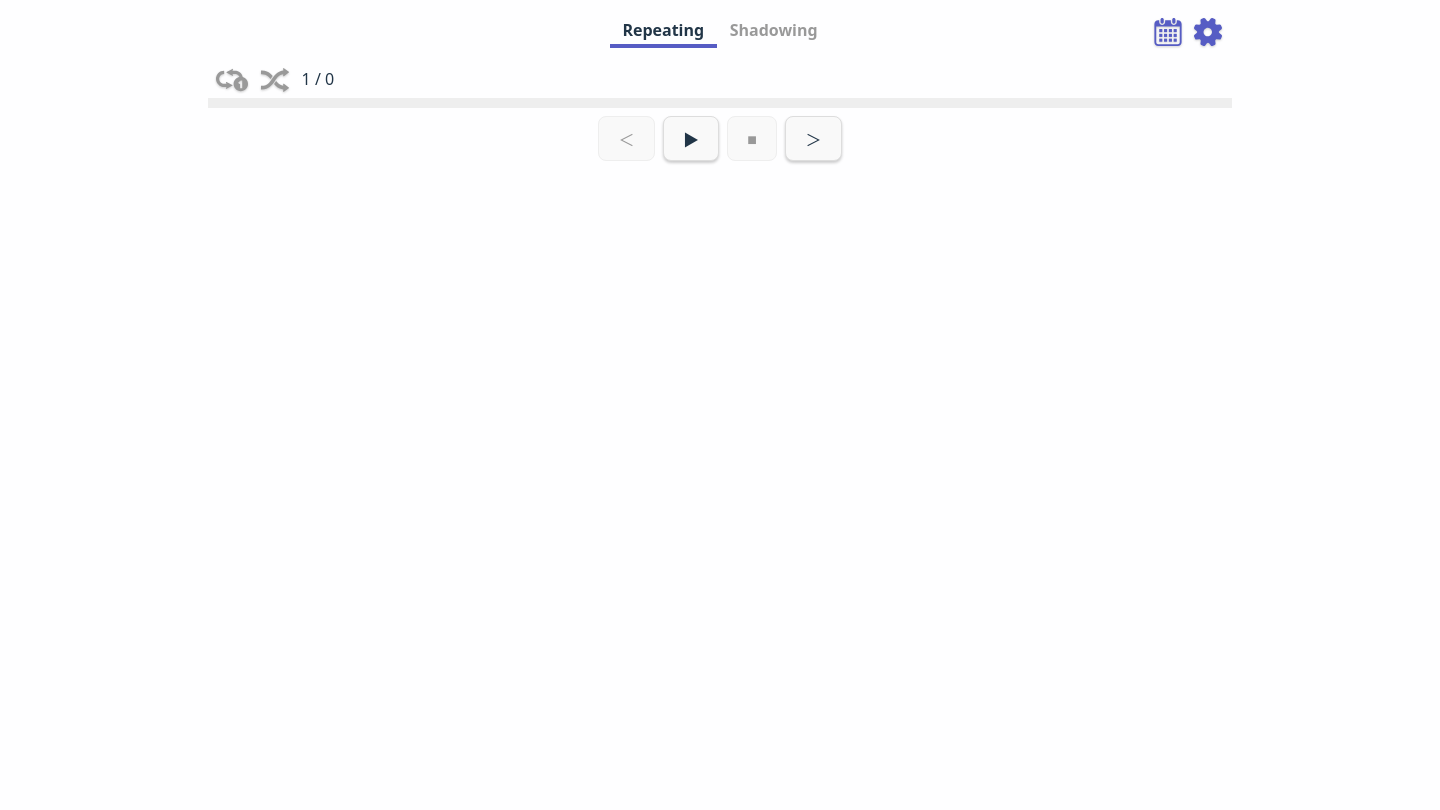
SECTION一覧 › 設定ボタンを押すとモーダルウインドウが開く
The width and height of the screenshot is (1440, 810).
Click the button named "設定".
click(1208, 32)  # box x1=1192 y1=16 x2=1224 y2=48
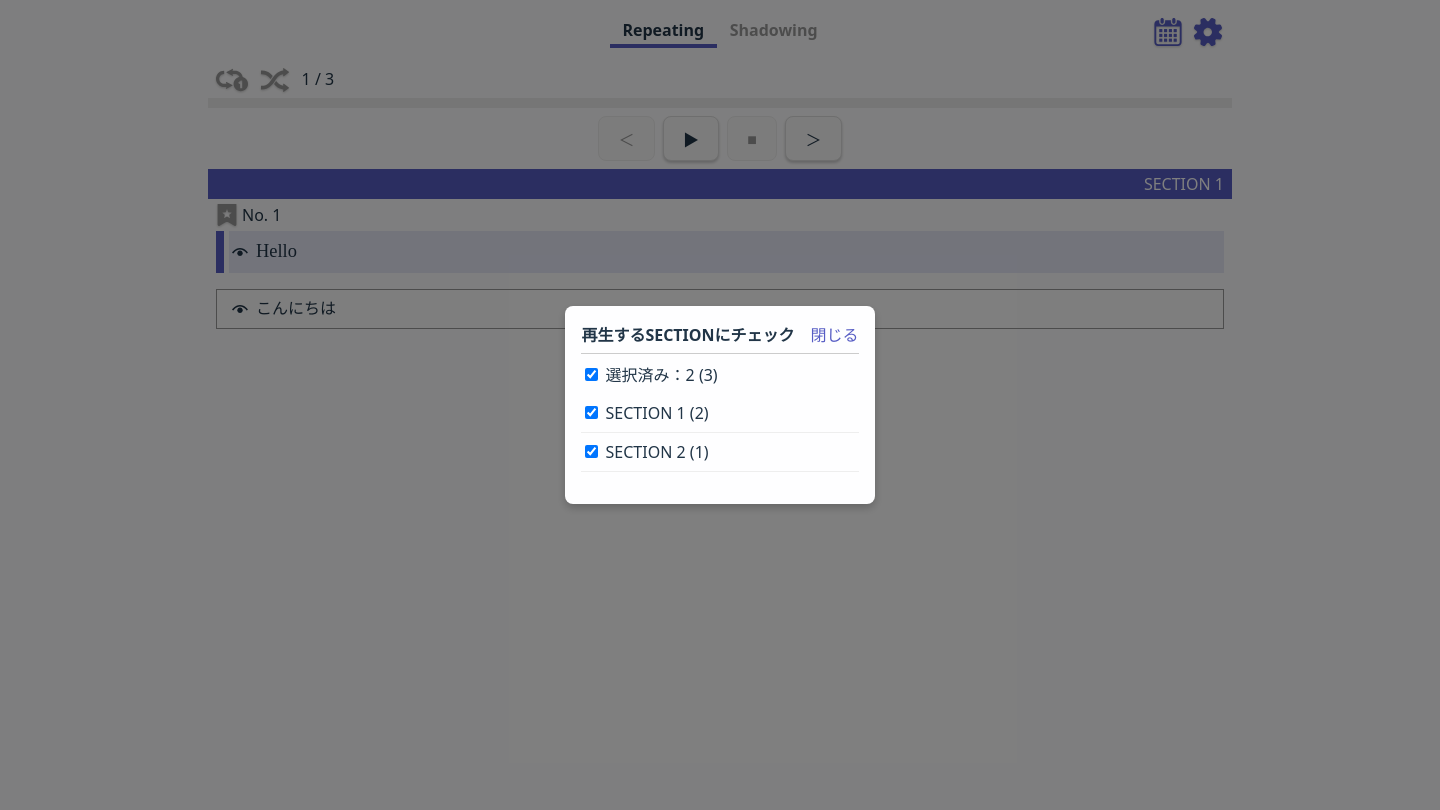
Result: the heading "再生するSECTIONにチェック" is shown at x1=581 y1=322 x2=859 y2=354
